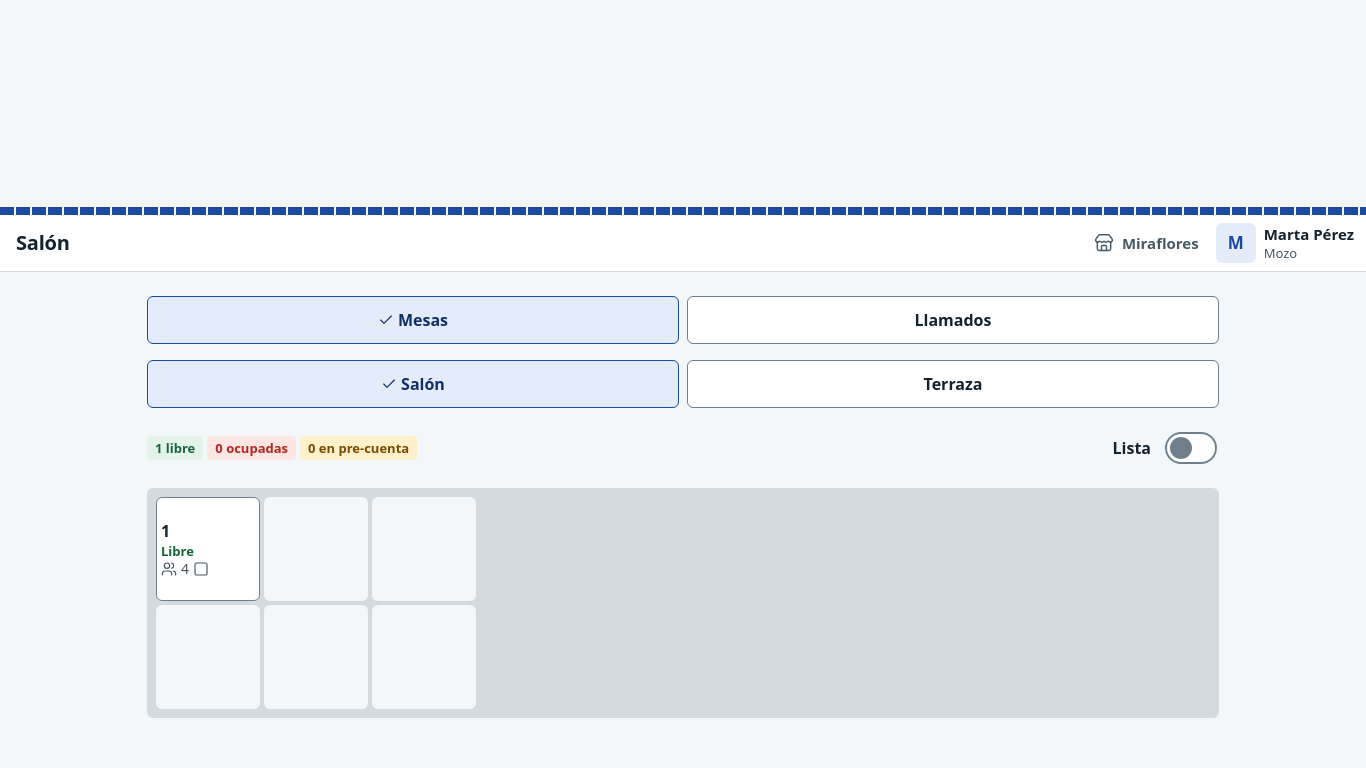
Test: Salón: estados vacíos y de carga (criterio 88) › una zona sin mesas lo dice dentro de la zona
The width and height of the screenshot is (1366, 768).
(page scrolled)
Step 1. Click the button "Terraza" → (953, 384), box left=687, top=360, right=1219, bottom=408
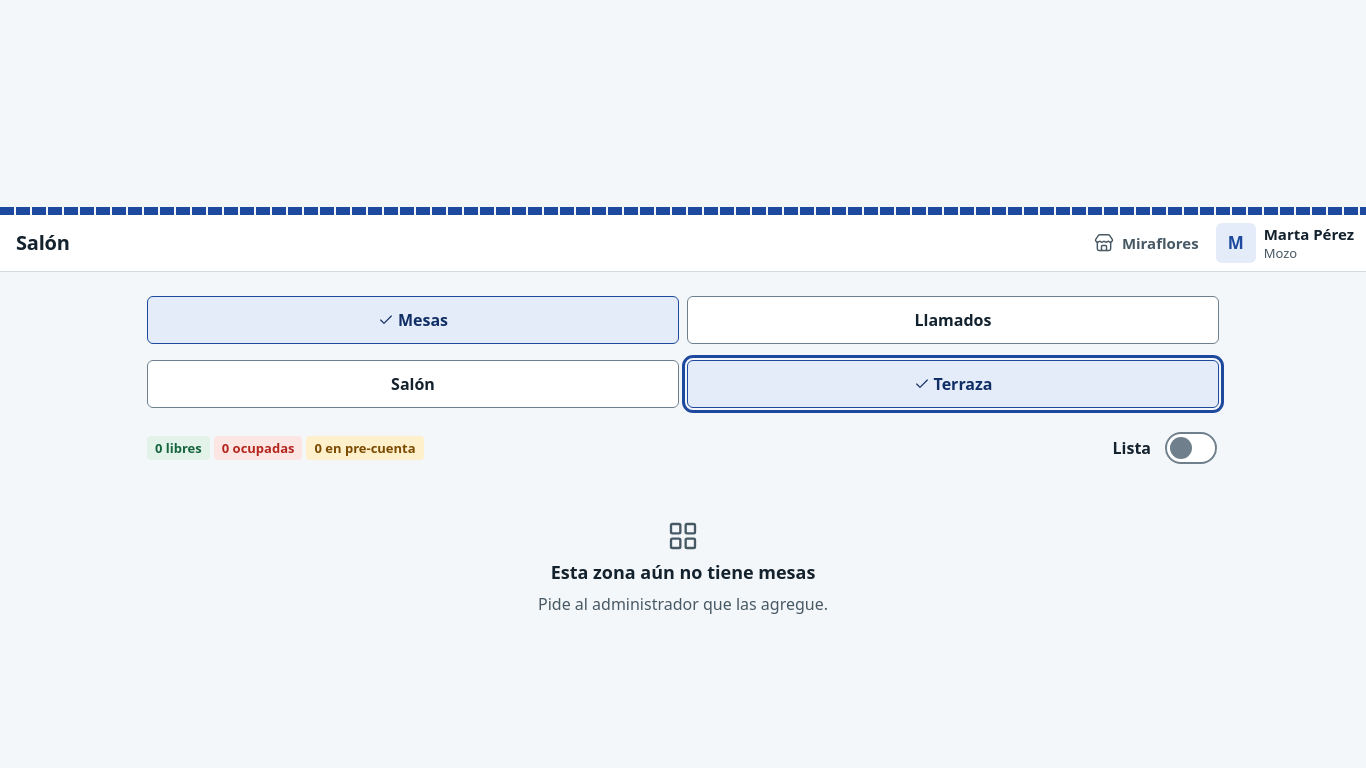
Check: the text "Esta zona aún no tiene mesas" is shown, box left=551, top=560, right=815, bottom=584
